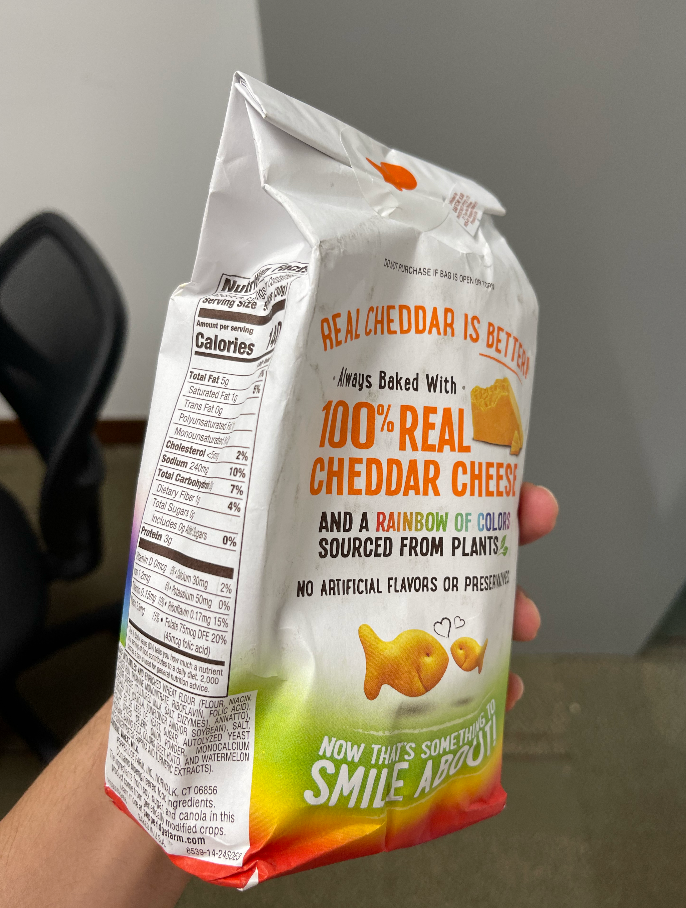crackers_100g-199g: (172, 260, 522, 825)
